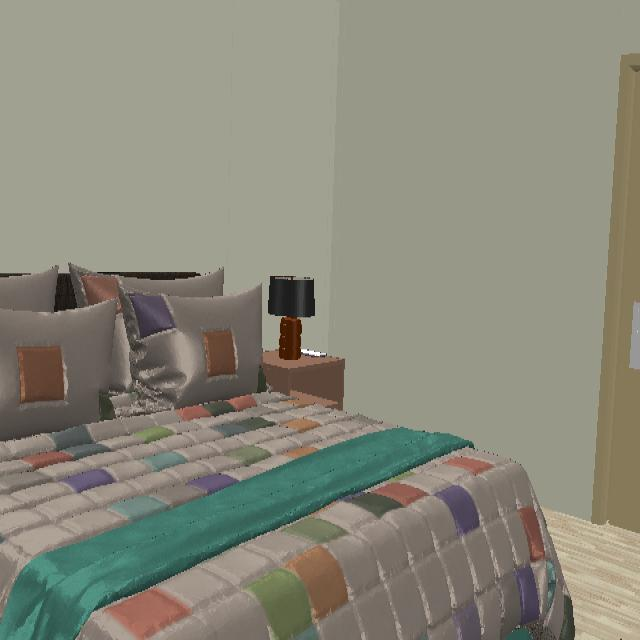bed: (0, 392, 574, 639)
lamp: (268, 275, 315, 359)
nighttable: (262, 350, 344, 409)
pillow: (0, 265, 262, 439)
